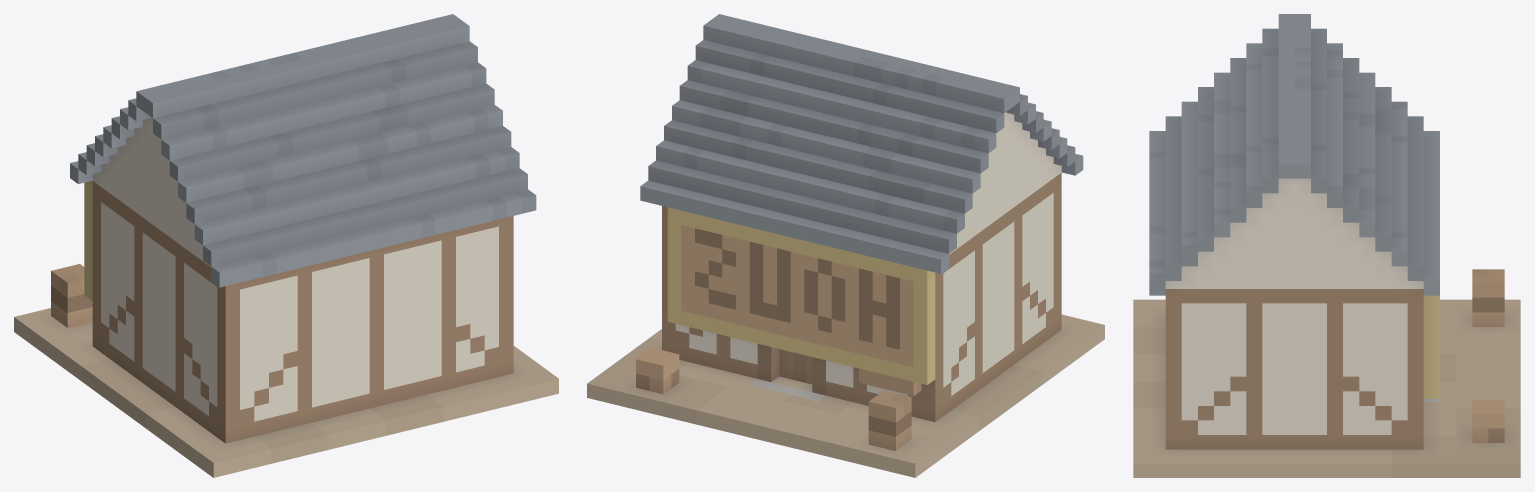
The model's file is house_merchants.glb.
The picture shows the model from 3 angles, left to right: view 1: azimuth 30°, elevation 25°; view 2: azimuth 150°, elevation 25°; view 3: azimuth 270°, elevation 25°; orthographic projection. The views are drawn at different scales.
Visible parts, largest first — view 1: house_merchants; view 2: house_merchants; view 3: house_merchants.
Part boxes in pixels (<box>): house_merchants: <box>14,14,558,477</box>; house_merchants: <box>587,14,1104,477</box>; house_merchants: <box>1133,14,1520,477</box>.
Size of the model in its own units: 3 by 2.62 by 3.
